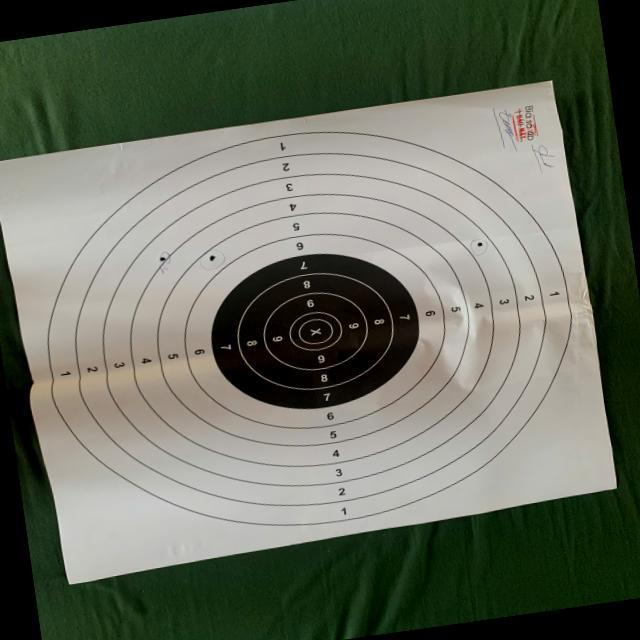bullet: (477, 241, 483, 248), (209, 255, 216, 261), (159, 256, 166, 261)
target: (0, 81, 616, 582)
